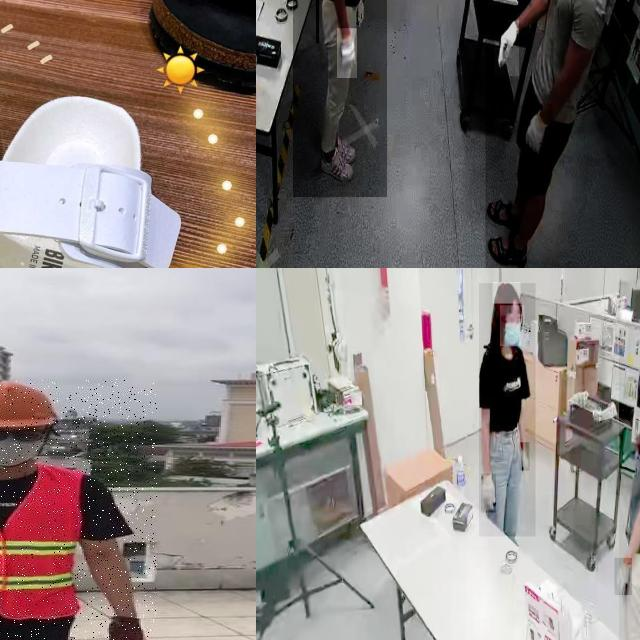Sandals: (0, 51, 207, 268)
face_mask: (500, 306, 524, 346)
hand_glove: (495, 13, 519, 76), (524, 104, 553, 154), (337, 28, 357, 79), (614, 558, 632, 596), (481, 474, 497, 514), (520, 442, 530, 472)
head_helmet: (0, 380, 61, 429)
head_nohelmet: (493, 282, 521, 304)
person: (485, 0, 640, 268), (0, 379, 157, 640), (292, 0, 387, 198), (479, 283, 536, 537)
shoes: (320, 144, 354, 182), (324, 130, 358, 166)
vest: (0, 467, 79, 618)
